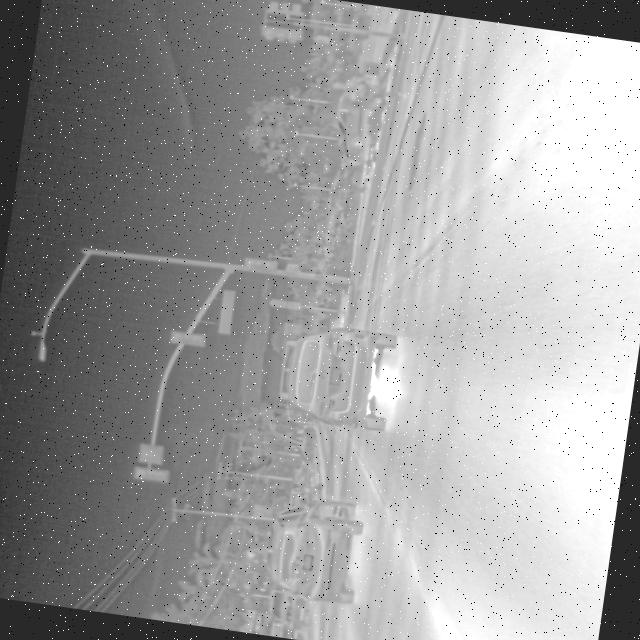Pedestrian: (326, 70, 408, 112)
Vehicle: (273, 316, 402, 436), (256, 489, 370, 609), (328, 86, 374, 162), (264, 580, 317, 634)
